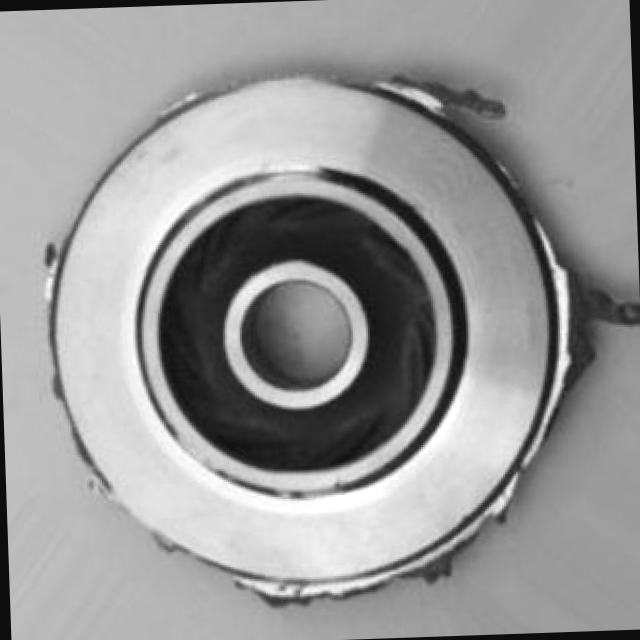Defect: (394, 66, 476, 120)
